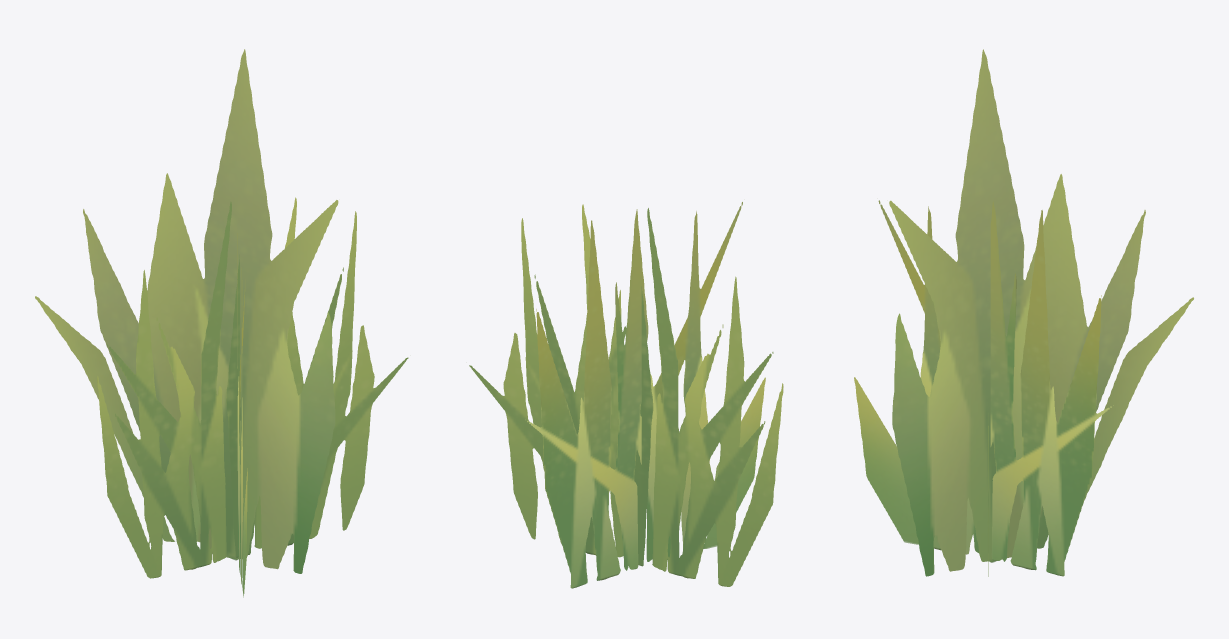
File: grass_cluster_2.fbx
3 views of the same model, side by side, from view 1: azimuth 30°, elevation 25°; view 2: azimuth 150°, elevation 25°; view 3: azimuth 270°, elevation 25° (orthographic).
Visible parts, largest first — view 1: grass; view 2: grass; view 3: grass.
Part boxes in pixels (<box>): grass: <box>35,49,408,597</box>; grass: <box>469,202,783,588</box>; grass: <box>854,49,1193,576</box>.
Size of the model in its own units: 138 by 209 by 125.
